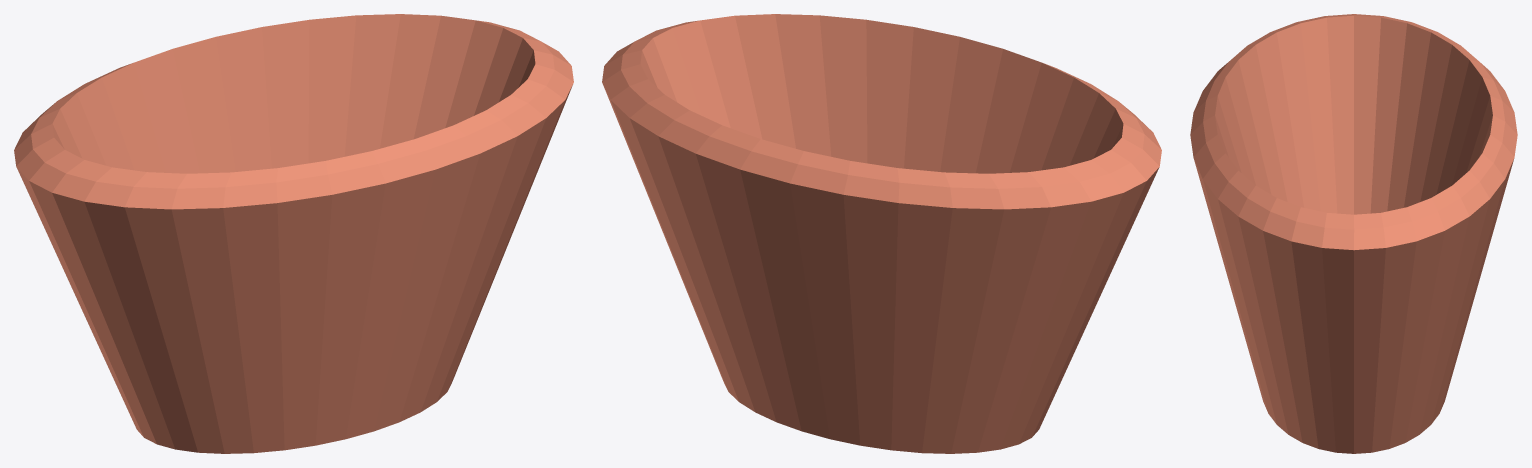
The model's file is basket03.fbx.
The picture shows the model from 3 angles, left to right: view 1: azimuth 30°, elevation 25°; view 2: azimuth 150°, elevation 25°; view 3: azimuth 270°, elevation 25°; orthographic projection. The views are drawn at different scales.
Visible parts, largest first — view 1: basket03; view 2: basket03; view 3: basket03.
Part boxes in pixels (left/top/right/bottom): basket03: left=14, top=14, right=573, bottom=453; basket03: left=602, top=14, right=1161, bottom=453; basket03: left=1190, top=14, right=1517, bottom=453.
Size of the model in its own units: 154 by 85.54 by 92.76.
